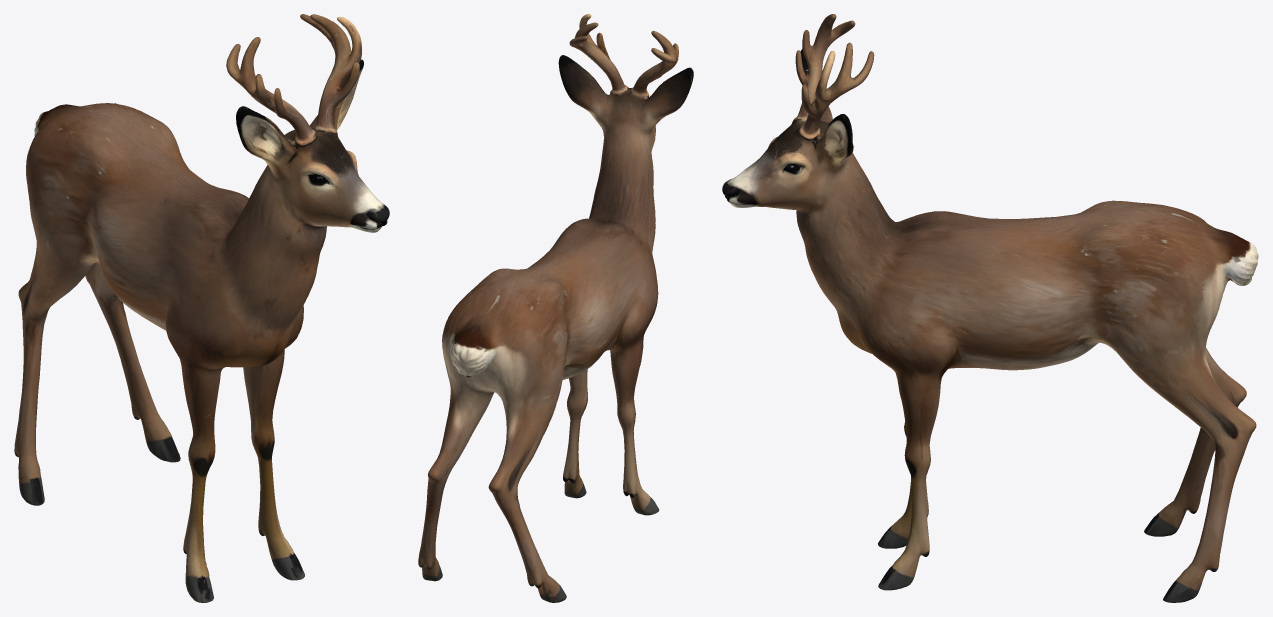
The model's file is deer.glb.
3 renders of one model, left to right at view 1: azimuth 30°, elevation 25°; view 2: azimuth 150°, elevation 25°; view 3: azimuth 270°, elevation 25°, orthographic. The views are drawn at different scales.
Visible parts, largest first — view 1: Mesh_0; view 2: Mesh_0; view 3: Mesh_0.
Part boxes in pixels (x1,y1,x2,y2): Mesh_0: (14,14,389,602); Mesh_0: (418,14,693,602); Mesh_0: (722,14,1258,602).
Size of the model in its own units: 0.5927 by 1.9 by 1.7.
Materials: 1 (1 with a texture image).
